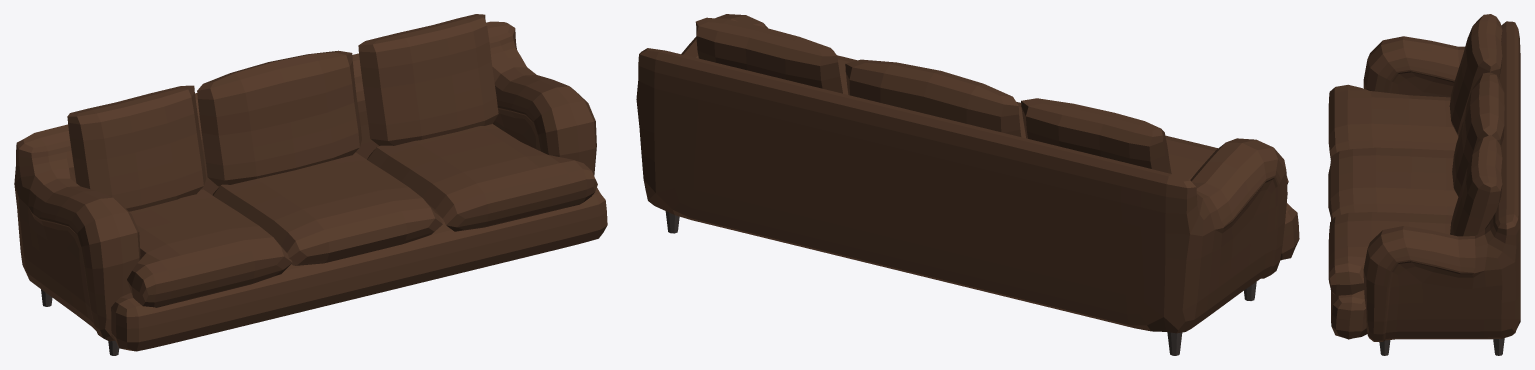
The model's file is Sofa2.gltf.
The picture shows the model from 3 angles, left to right: view 1: azimuth 30°, elevation 25°; view 2: azimuth 150°, elevation 25°; view 3: azimuth 270°, elevation 25°; orthographic projection. The views are drawn at different scales.
Visible parts, largest first — view 1: Sofa2; view 2: Sofa2; view 3: Sofa2.
Boxes of the visible parts, <box> form: Sofa2: <box>14,14,607,355</box>; Sofa2: <box>636,14,1299,355</box>; Sofa2: <box>1328,14,1520,355</box>.
Size of the model in its own units: 4 by 1.45 by 1.54.
